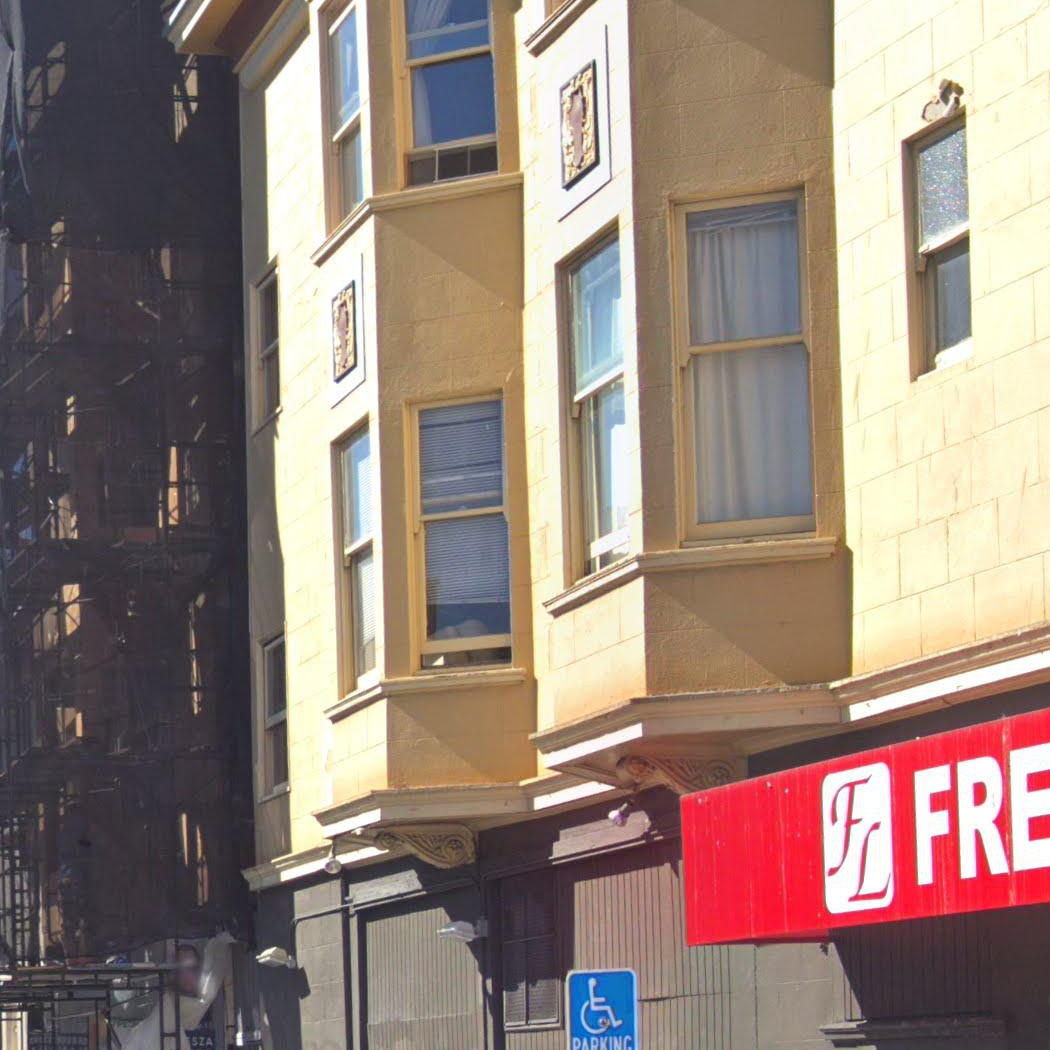Disabled Parking Only: (564, 966, 637, 1048)
